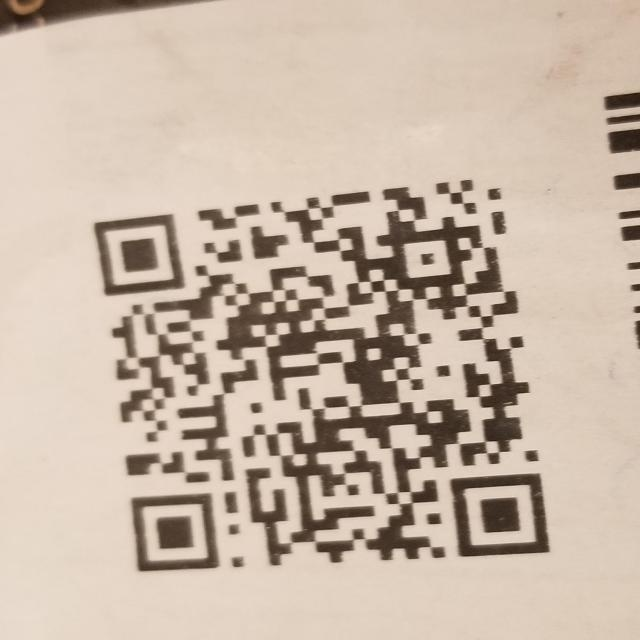qr-code: (71, 158, 568, 588)
